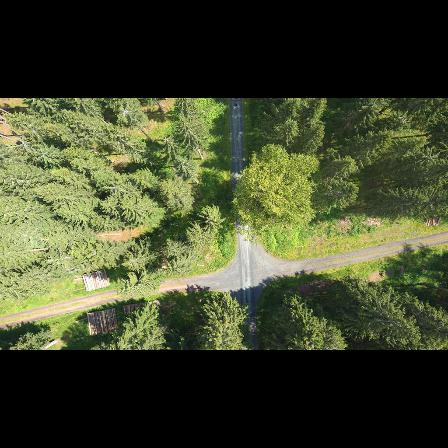Sick: (153, 129, 178, 149), (114, 101, 138, 121)
